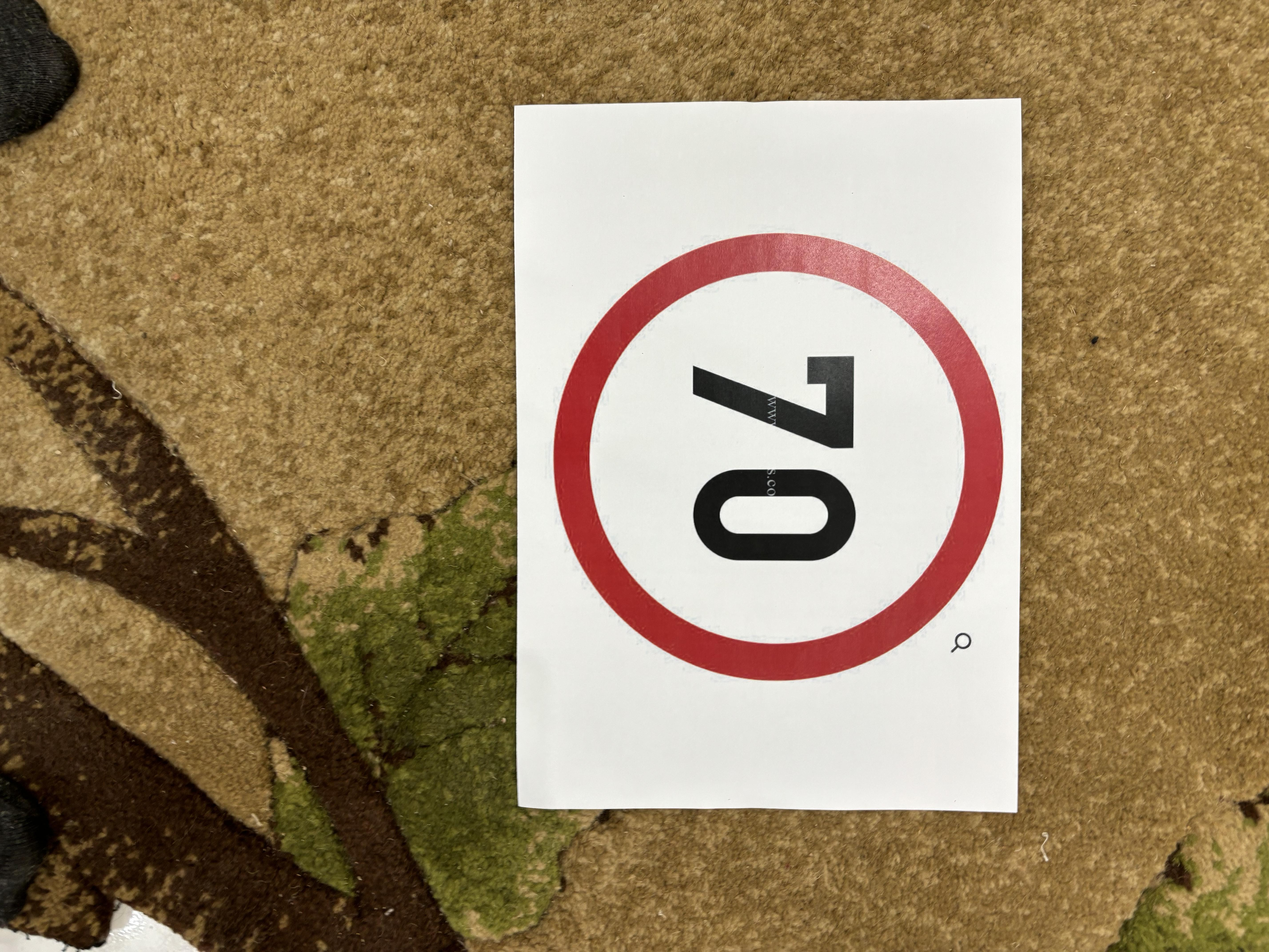70-Speed: (548, 223, 1009, 684)
